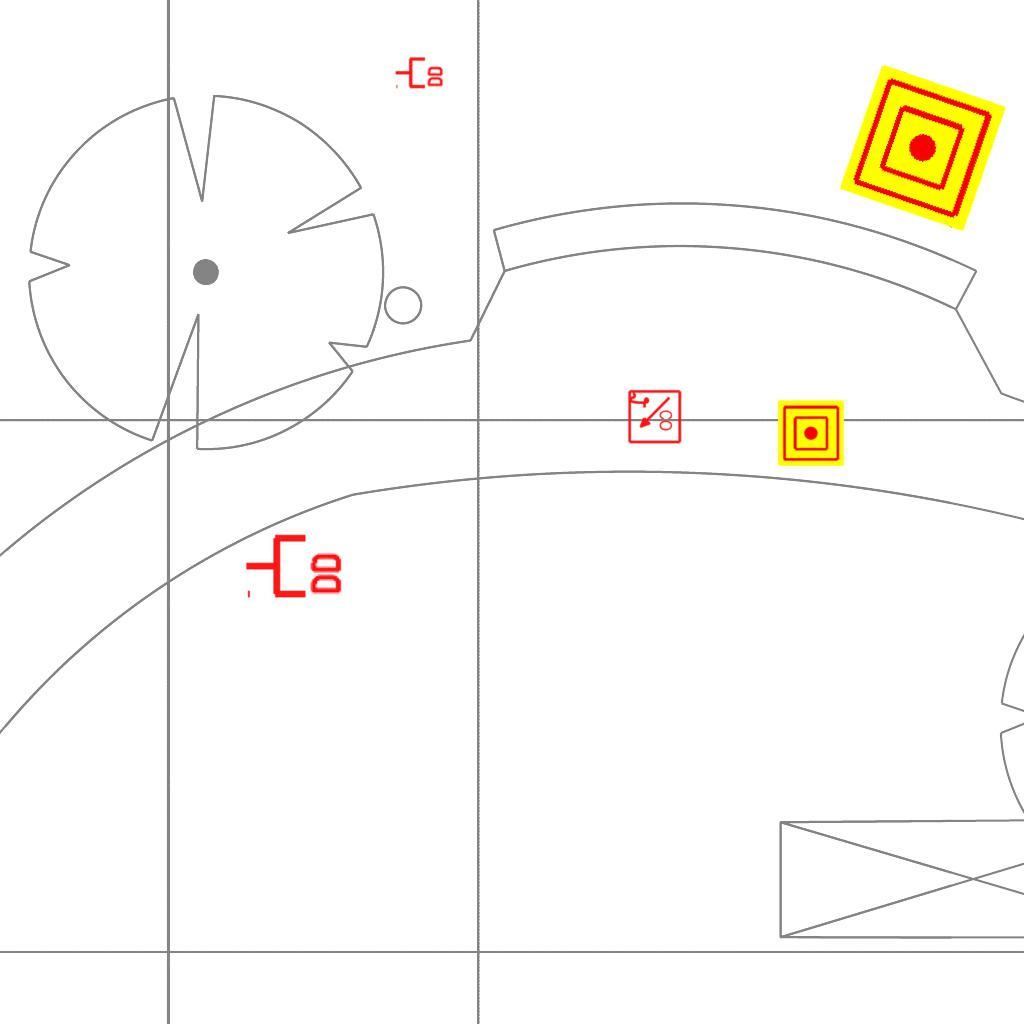Datenanschluss_zweifach: (243, 530, 346, 599), (394, 55, 445, 89)
NAM-Nichtautomatischer_Melder: (839, 64, 1007, 232), (778, 400, 844, 466)
ROA_Rauchmelder_optisch_mit_Signalgeber_(Sockelsirene): (626, 389, 682, 445)
